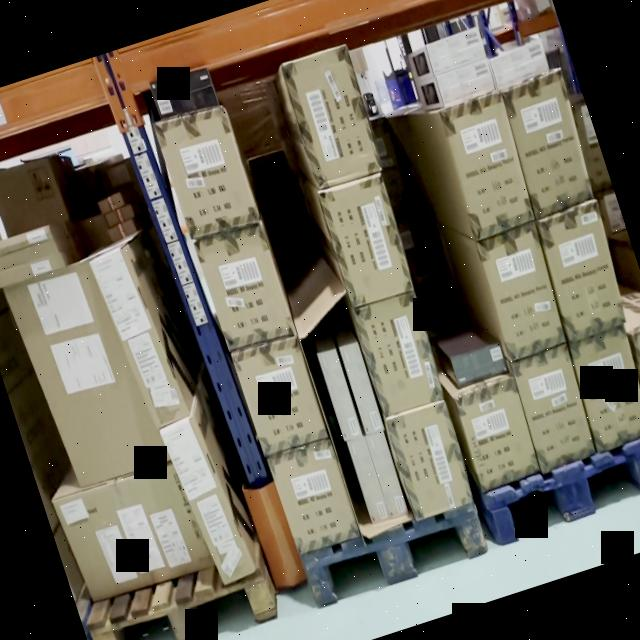box: (10, 259, 160, 486), (59, 462, 209, 604), (94, 252, 188, 442), (162, 406, 252, 580), (282, 45, 382, 190), (192, 220, 296, 354), (154, 105, 260, 236), (500, 71, 595, 213), (442, 92, 536, 235), (536, 202, 631, 341), (322, 172, 418, 309), (478, 224, 568, 358), (232, 335, 328, 458), (356, 290, 448, 417), (387, 400, 478, 522), (511, 345, 598, 470), (269, 439, 359, 554), (455, 378, 542, 490), (567, 328, 640, 450), (364, 428, 410, 520), (566, 100, 612, 192), (0, 160, 53, 236), (342, 344, 386, 434), (152, 68, 220, 121), (321, 350, 362, 437), (348, 436, 389, 521), (424, 28, 486, 74), (490, 42, 551, 88), (437, 60, 497, 104), (452, 343, 510, 387), (0, 251, 63, 288), (0, 227, 50, 262)
